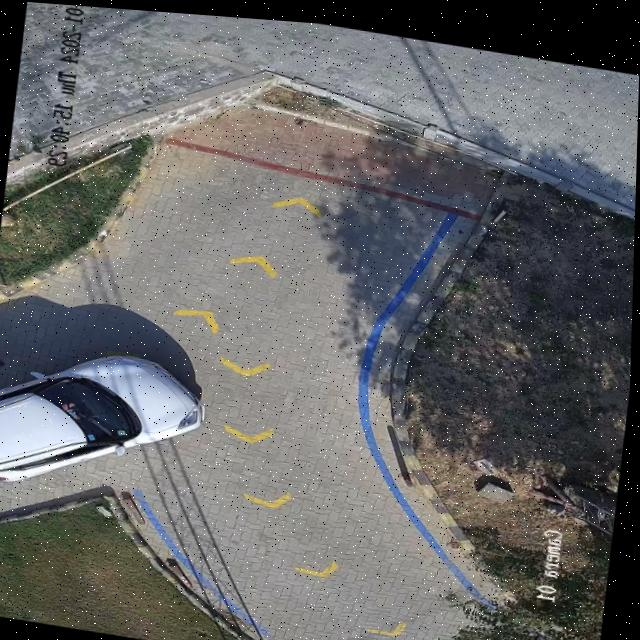car: (0, 352, 207, 481)
